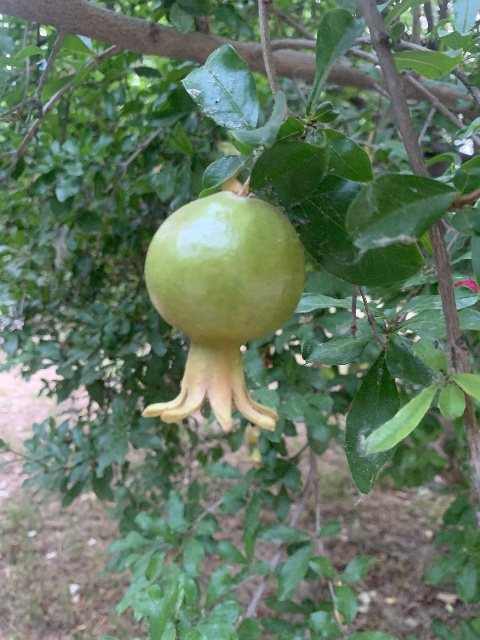mid-growth: (141, 192, 305, 434)
